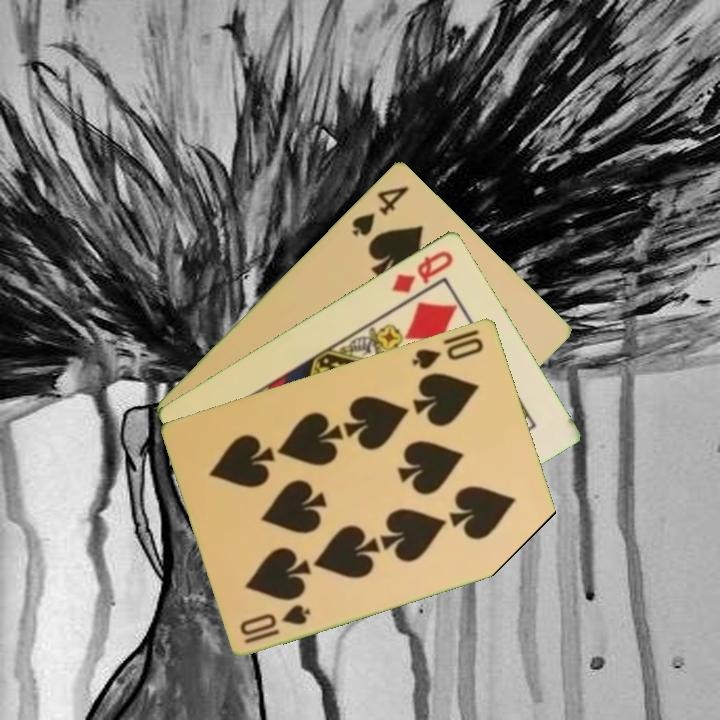10s: (236, 600, 314, 646), (409, 333, 487, 372)
4s: (348, 182, 412, 239)
Qd: (388, 246, 457, 296)
